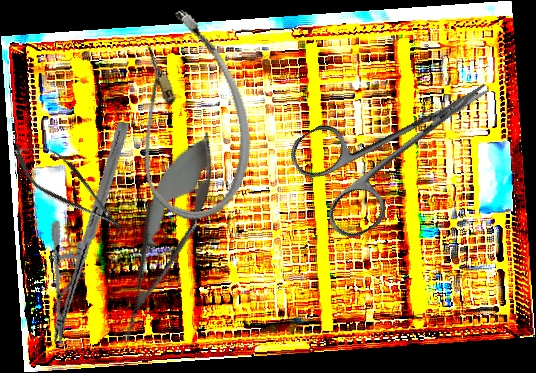Cannula: (102, 0, 272, 231)
Iris Scissors: (284, 41, 519, 246)
Micro Scissor: (97, 121, 232, 357), (2, 128, 137, 246)
Needle Holder: (10, 120, 171, 344)
